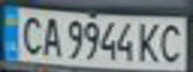4: (115, 19, 139, 63), (100, 19, 121, 62)
9: (60, 17, 84, 60), (81, 18, 100, 61)
A: (36, 14, 63, 57)
C: (154, 20, 190, 64), (15, 11, 45, 56)
K: (136, 19, 163, 63)
